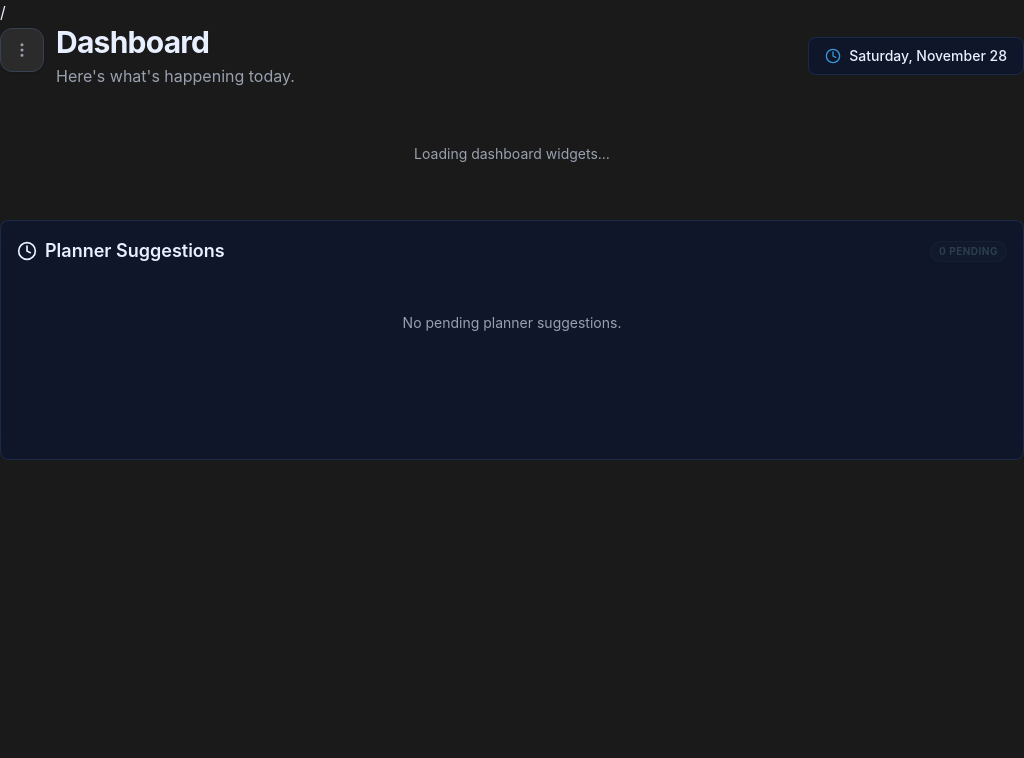
Test case: Dashboard › waits for the saved widget preferences before showing widgets or their toggles
expect the heading "Dashboard" is shown: met, box left=56, top=24, right=209, bottom=60
expect the text "Loading dashboard widgets…" is shown: met, box left=414, top=144, right=610, bottom=164
Click the button named "configure dashboard widgets".
click(22, 50)  # box left=0, top=28, right=44, bottom=72
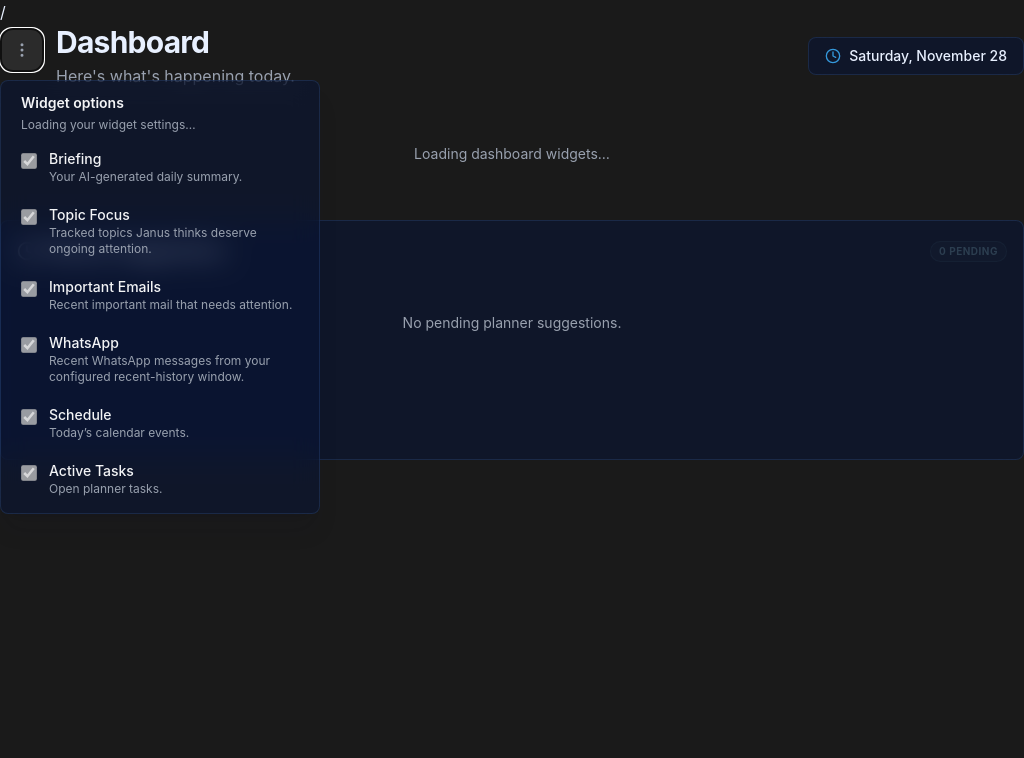
expect the text "Loading your widget settings…" is shown: met, box left=21, top=117, right=196, bottom=132
expect the checkbox labelled "Active Tasks Open planner tasks." is disabled: met
Click the checkbox labelled "Active Tasks Open planner tasks.".
click(29, 473)  # box left=21, top=465, right=37, bottom=481
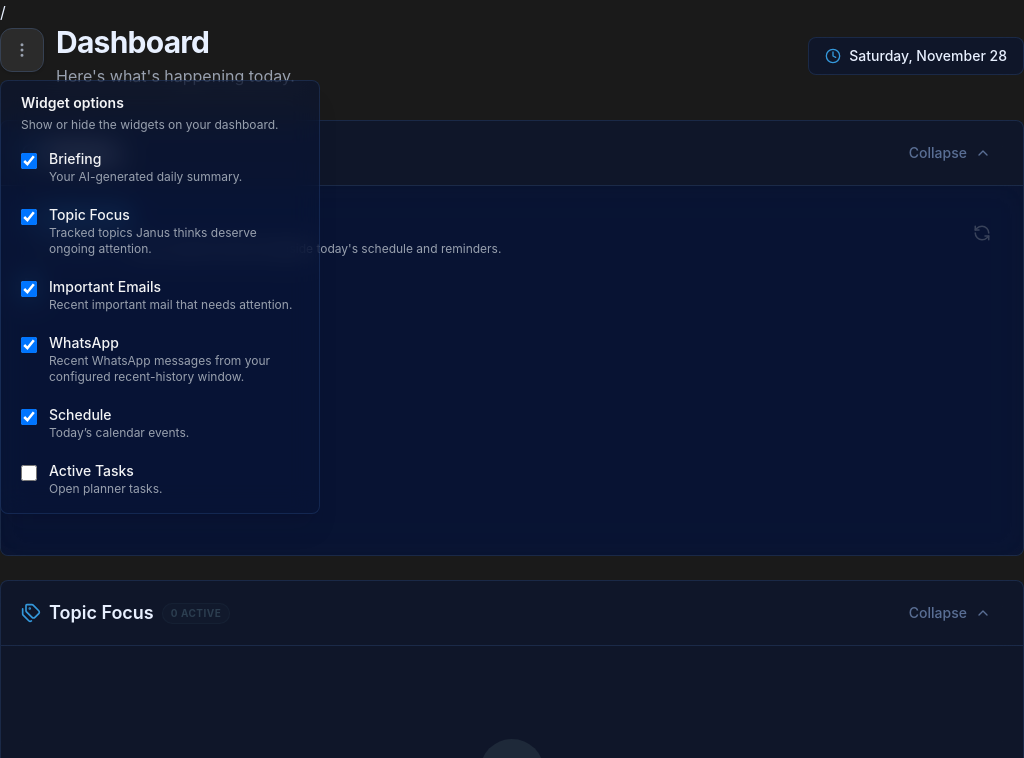
expect the checkbox labelled "Active Tasks Open planner tasks." is not checked: met, box left=21, top=465, right=37, bottom=481
expect the checkbox labelled "Active Tasks Open planner tasks." is enabled: met, box left=21, top=465, right=37, bottom=481
expect the element with test id "dashboard-widget-briefing" is shown: met, box left=0, top=120, right=1023, bottom=556
